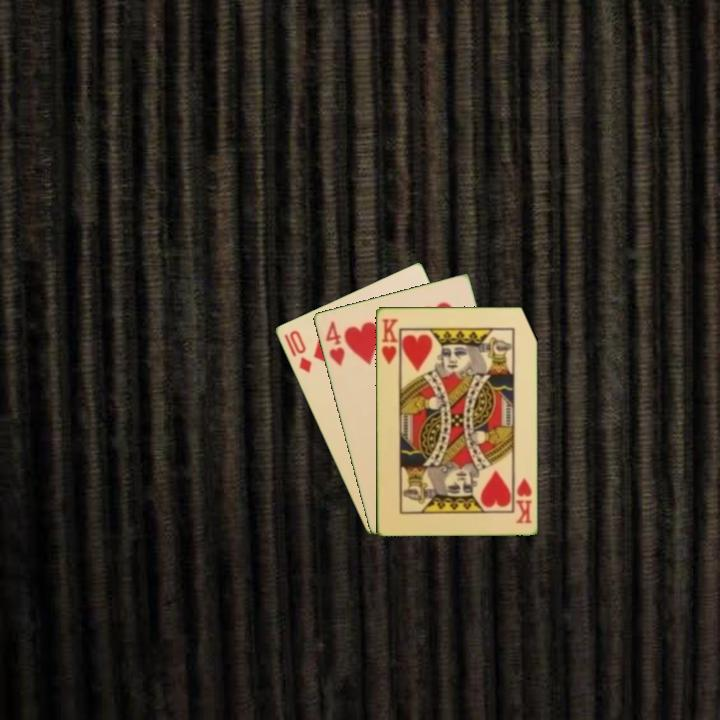10d: (280, 326, 315, 376)
4h: (322, 317, 347, 369)
Kh: (378, 315, 401, 369), (511, 473, 534, 526)
